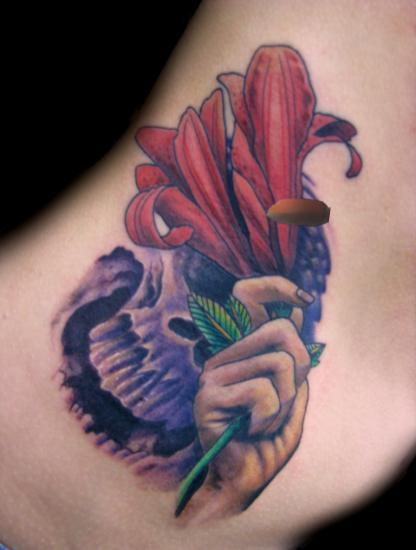Hazelnut: (266, 179, 330, 243)
